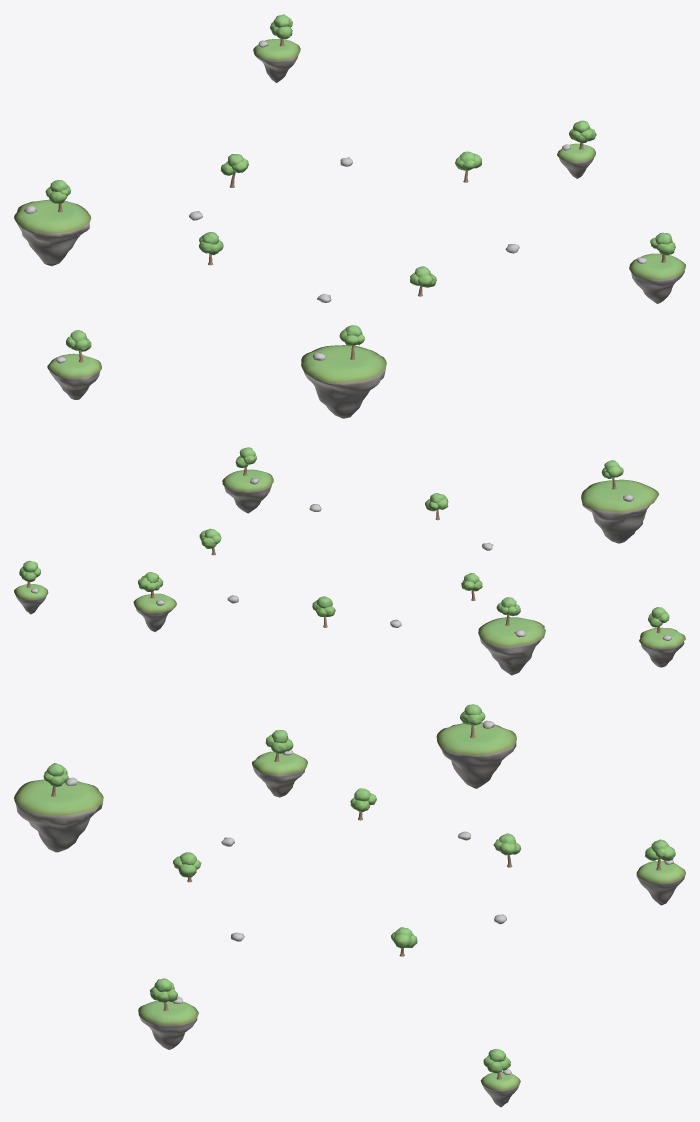
File: decor.glb
3 views of the same model, one above another, from view 1: azimuth 30°, elevation 25°; view 2: azimuth 150°, elevation 25°; view 3: azimuth 270°, elevation 25° (orthographic). The views are drawn at different scales.
Visible parts, largest first — view 1: Sat3, Sat0, Sat1, Sat5, Sat2, Sat4; view 2: Sat3, Sat0, Sat1, Sat5, Sat2, Sat4, LipTree2, SatTree2, SatTree0, SatTree4, LipTree6, LipTree0 (+1 smaller); view 3: Sat3, Sat0, Sat1, Sat5, Sat2, Sat4.
Part boxes in pixels (left/top/right/bottom): Sat3: left=301, top=345, right=386, bottom=418; Sat0: left=14, top=199, right=91, bottom=266; Sat1: left=629, top=253, right=685, bottom=303; Sat5: left=47, top=353, right=101, bottom=399; Sat2: left=253, top=39, right=300, bottom=82; Sat4: left=557, top=143, right=595, bottom=178; Sat3: left=581, top=479, right=659, bottom=543; Sat0: left=478, top=617, right=545, bottom=675; Sat1: left=222, top=469, right=273, bottom=513; Sat5: left=639, top=627, right=685, bottom=667; Sat2: left=133, top=593, right=176, bottom=632; Sat4: left=14, top=584, right=48, bottom=614; LipTree2: left=312, top=596, right=335, bottom=627; SatTree2: left=138, top=572, right=163, bottom=598; SatTree0: left=496, top=597, right=520, bottom=625; SatTree4: left=19, top=560, right=40, bottom=587; LipTree6: left=425, top=493, right=448, bottom=520; LipTree0: left=199, top=528, right=221, bottom=555; Sat3: left=14, top=779, right=103, bottom=852; Sat0: left=436, top=722, right=516, bottom=788; Sat1: left=138, top=1000, right=198, bottom=1049; Sat5: left=252, top=751, right=307, bottom=797; Sat2: left=636, top=860, right=685, bottom=905; Sat4: left=480, top=1071, right=520, bottom=1107.
Bounding box in the file's own units: 61.83 × 14.38 × 54.61.
